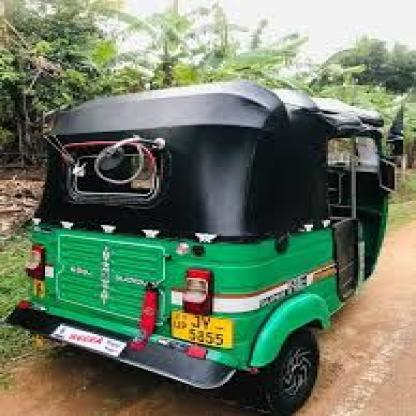number plate: (173, 308, 237, 347)
three wheeler back: (5, 83, 404, 414)
